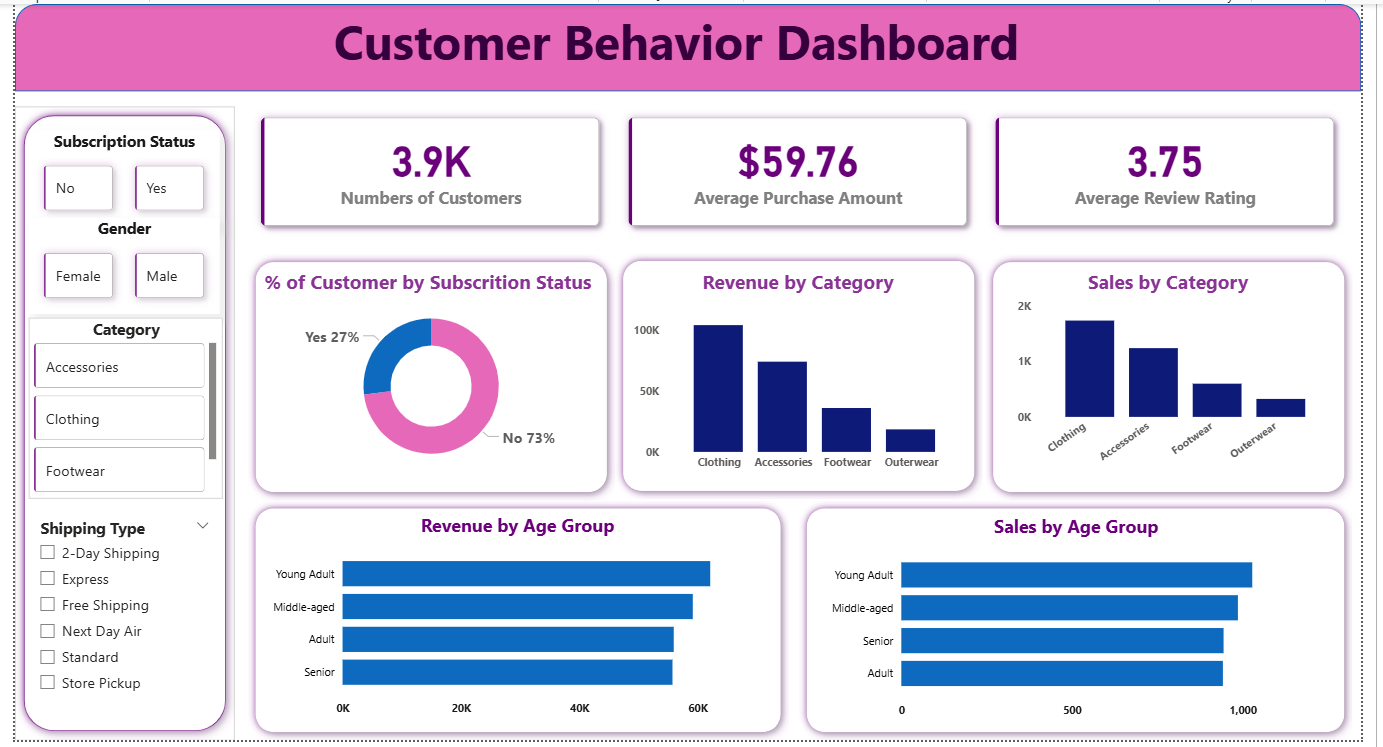

Layout of this report page (visuals, bound fields, positions):
{"tool":"powerbi","page":{"name":"Page 1","canvas":[1500,820],"ordinal":0},"visuals":[{"type":"shape","box":[259,552.9,603,267.4],"z":0},{"type":"cardVisual","fields":{"Data":["customer_behavior customer.Numbers of Customers","customer_behavior customer.Average Purchase Amount","customer_behavior customer.Average Review Rating"]},"box":[245.1,97.5,1254.8,179.7],"z":1000},{"type":"shape","box":[0,0,1499.9,97.5],"z":2000},{"type":"textbox","box":[104.5,0,1279.9,97.5],"z":3000},{"type":"shape","box":[259,278.5,409.4,274.4],"z":4000},{"type":"donutChart","title":"% of Customer by Subscrition Status","fields":{"Category":["customer_behavior customer.subscription_status"],"Y":["CountNonNull(customer_behavior customer.customer_id)"]},"box":[273,293.9,381.6,235.4],"z":5000},{"type":"shape","box":[1080.7,278.5,409.4,274.4],"z":6000},{"type":"shape","box":[668.5,277.1,409.4,274.4],"z":7000},{"type":"clusteredColumnChart","title":"Revenue by Category","fields":{"Category":["customer_behavior customer.category"],"Y":["Sum(customer_behavior customer.purchase_amount)"]},"box":[683.8,293.9,377.4,235.4],"z":8000},{"type":"clusteredColumnChart","title":"Sales by Category","fields":{"Category":["customer_behavior customer.category"],"Y":["CountNonNull(customer_behavior customer.customer_id)"]},"box":[1096,293.9,377.4,235.4],"z":9000},{"type":"shape","box":[0,114.2,245.1,706.1],"z":10000},{"type":"advancedSlicerVisual","fields":{"Values":["customer_behavior customer.subscription_status"]},"box":[15.3,140.7,213.1,107.2],"z":11000},{"type":"advancedSlicerVisual","fields":{"Values":["customer_behavior customer.gender"]},"box":[15.3,238.1,213.1,107.2],"z":12000},{"type":"slicer","fields":{"Values":["customer_behavior customer.shipping_type"]},"box":[15.3,566.8,213.1,222.8],"z":13000},{"type":"advancedSlicerVisual","title":"Category","fields":{"Values":["customer_behavior customer.category"]},"box":[15.3,349.6,215.9,201.9],"z":14000},{"type":"clusteredBarChart","title":"Revenue by Age Group","fields":{"Category":["customer_behavior customer.age_group"],"Y":["Sum(customer_behavior customer.purchase_amount)"]},"box":[277.1,566.8,565.4,236.8],"z":15000},{"type":"shape","box":[873.2,552.9,617,267.4],"z":16000},{"type":"clusteredBarChart","title":"Sales by Age Group","fields":{"Category":["customer_behavior customer.age_group"],"Y":["CountNonNull(customer_behavior customer.customer_id)"]},"box":[899.7,568.2,565.4,236.8],"z":17000}]}

Visuals, with their boxes in screenshot pixels (x1, y1, x2, y2), scaled from the page's 1500x820 canvas onto the 1383x747 screenshot:
shape: 239/504/795/746
cardVisual - customer_behavior customer.Numbers of Customers x customer_behavior customer.Average Purchase Amount: 226/89/1382/253
shape: 0/0/1382/89
textbox: 96/0/1276/89
shape: 239/254/616/504
"% of Customer by Subscrition Status" donutChart: 252/268/604/482
shape: 996/254/1374/504
shape: 616/252/994/502
"Revenue by Category" clusteredColumnChart: 630/268/978/482
"Sales by Category" clusteredColumnChart: 1011/268/1358/482
shape: 0/104/226/746
advancedSlicerVisual - customer_behavior customer.subscription_status: 14/128/211/226
advancedSlicerVisual - customer_behavior customer.gender: 14/217/211/315
slicer - customer_behavior customer.shipping_type: 14/516/211/719
"Category" advancedSlicerVisual: 14/318/213/502
"Revenue by Age Group" clusteredBarChart: 255/516/777/732
shape: 805/504/1374/746
"Sales by Age Group" clusteredBarChart: 830/518/1351/733
